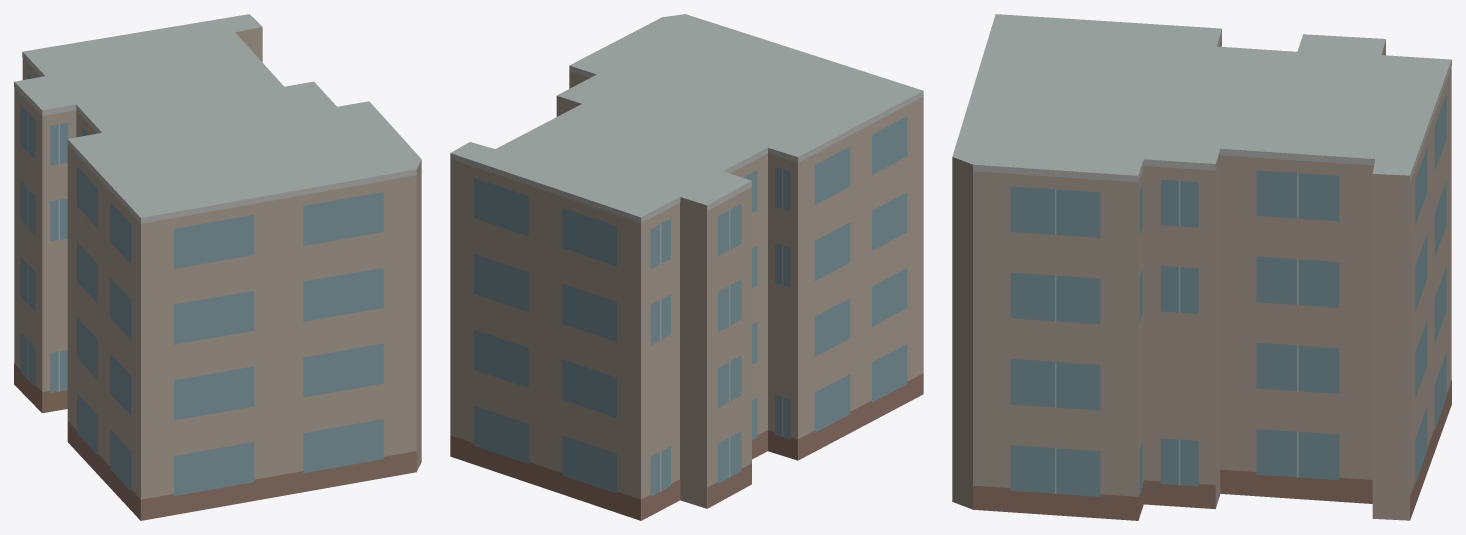
File: survey-upis-32675973.glb
3 views of the same model, side by side, from view 1: azimuth 30°, elevation 25°; view 2: azimuth 150°, elevation 25°; view 3: azimuth 270°, elevation 25° (orthographic). The views are drawn at different scales.
Visible parts, largest first — view 1: survey-upis-32675973.tmp; view 2: survey-upis-32675973.tmp; view 3: survey-upis-32675973.tmp.
Part boxes in pixels (x1,y1,x2,y2): survey-upis-32675973.tmp: (14, 14, 421, 520); survey-upis-32675973.tmp: (450, 14, 923, 520); survey-upis-32675973.tmp: (952, 14, 1451, 520).
Size of the model in its own units: 12.89 by 12.8 by 16.8.
